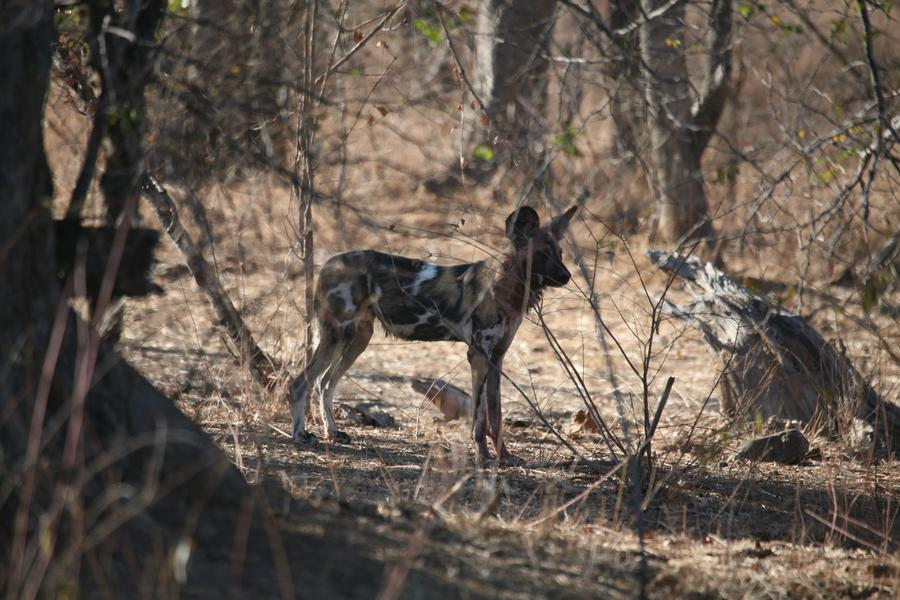wilddog: (296, 213, 575, 370)
